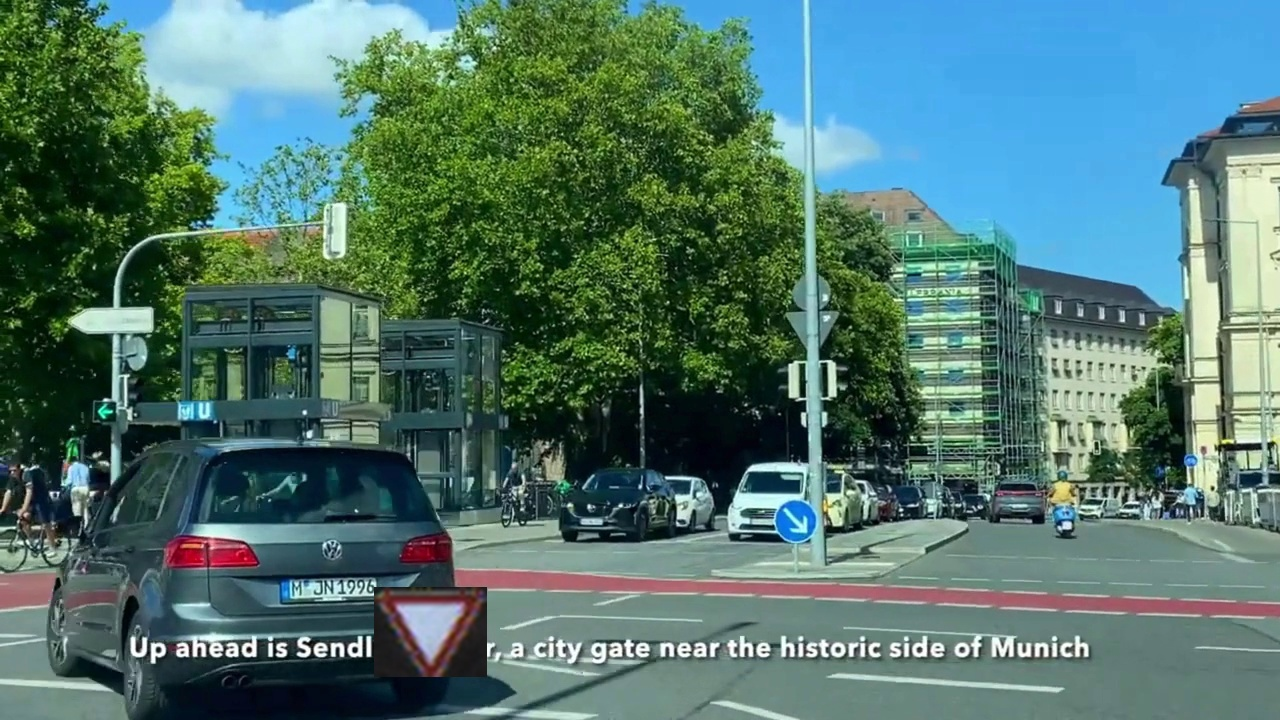Yield: (374, 587, 487, 677)
